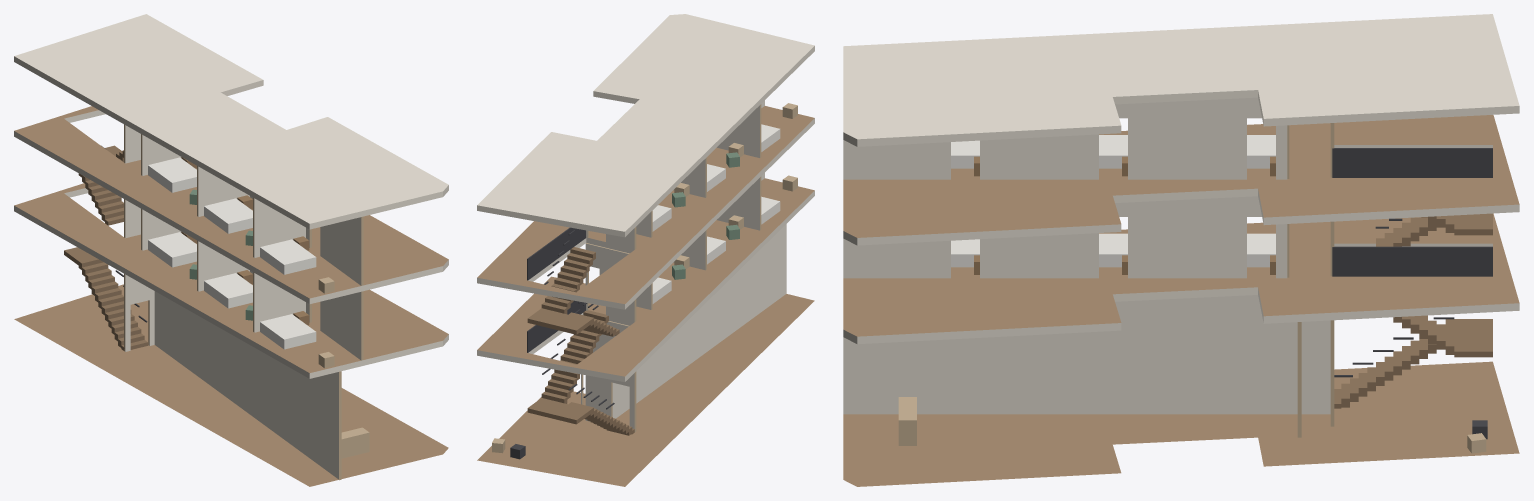
File: interior.glb
3 renders of one model, left to right at view 1: azimuth 30°, elevation 25°; view 2: azimuth 150°, elevation 25°; view 3: azimuth 270°, elevation 25°, orthographic. The views are drawn at different scales.
Visible parts, largest first — view 1: slabs, partitions, coarse-s1, coarse-s2, stair, coarse-s0; view 2: slabs, partitions, stair, coarse-s2, coarse-s1, coarse-s0; view 3: slabs, partitions, stair, coarse-s1, coarse-s2, coarse-s0.
Part boxes in pixels (x1,y1,x2,y2): slabs: (14, 14, 448, 486); partitions: (124, 124, 363, 480); coarse-s1: (148, 231, 334, 368); coarse-s2: (148, 157, 334, 293); stair: (64, 145, 147, 350); coarse-s0: (341, 427, 369, 458); slabs: (477, 14, 814, 486); partitions: (581, 100, 786, 431); stair: (527, 227, 634, 435); coarse-s2: (652, 103, 797, 231); coarse-s1: (652, 175, 797, 303); coarse-s0: (492, 438, 525, 459); slabs: (843, 14, 1519, 486); partitions: (843, 97, 1334, 437); stair: (1332, 148, 1492, 408); coarse-s1: (951, 233, 1275, 274); coarse-s2: (951, 135, 1275, 176); coarse-s0: (898, 397, 1487, 453).
Size of the model in its own units: 9.21 by 11.93 by 21.
